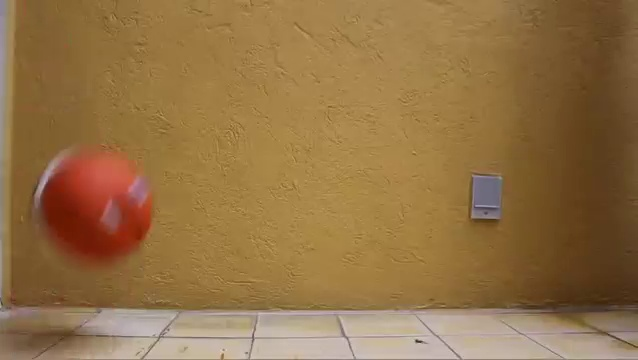ball: (29, 139, 153, 274)
